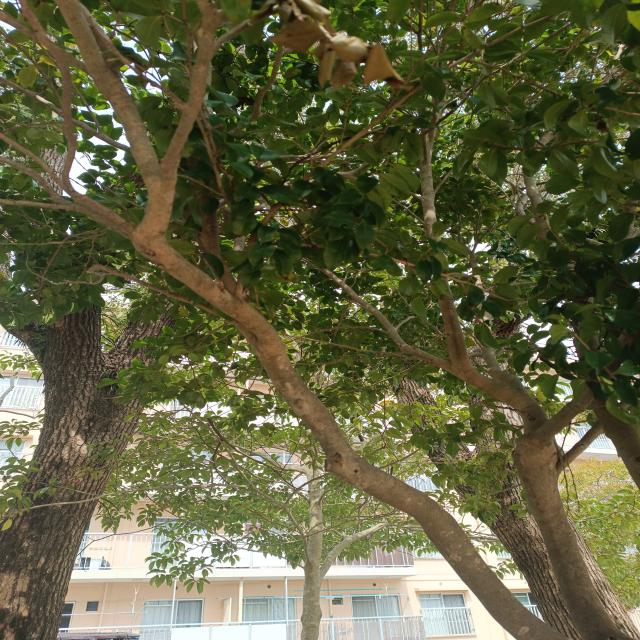Branch: (129, 166, 556, 634), (491, 375, 618, 636)
Twig: (19, 0, 134, 233), (323, 264, 494, 393), (53, 1, 159, 177), (160, 0, 223, 182), (2, 159, 66, 204), (1, 198, 108, 224), (439, 281, 471, 364), (484, 346, 513, 380)
